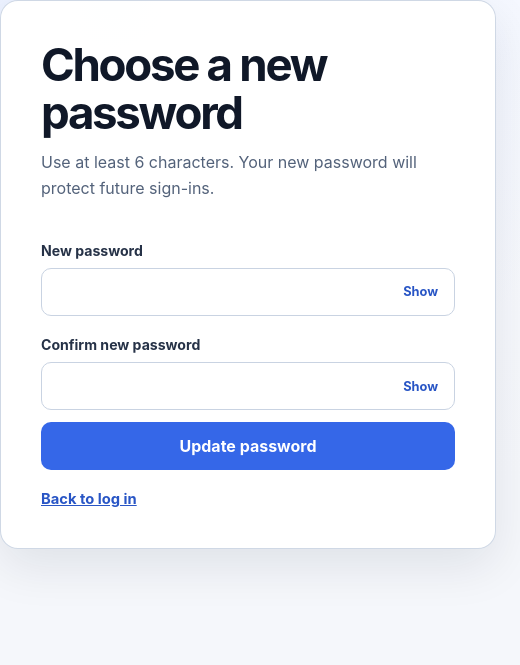
Test: PasswordResetForm › handles a rejected recovery session safely
Type "password123" into the password field labelled "New password". click: (248, 292)
box: x1=41 y1=268 x2=455 y2=316
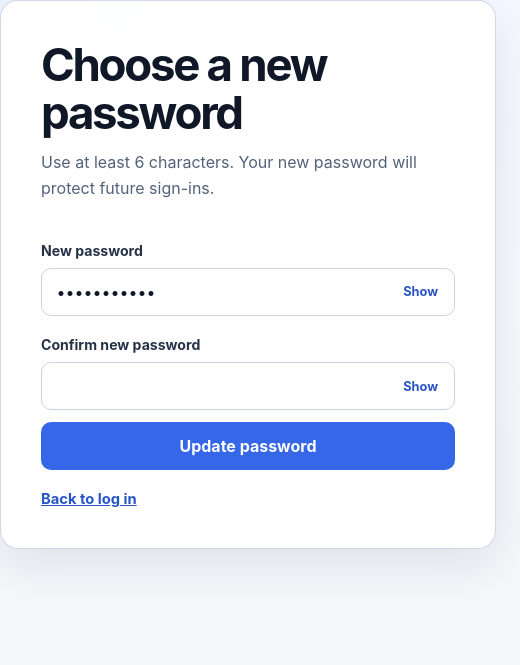
Type "password123" into the password field labelled "Confirm new password". click: (248, 386)
box: x1=41 y1=362 x2=455 y2=410
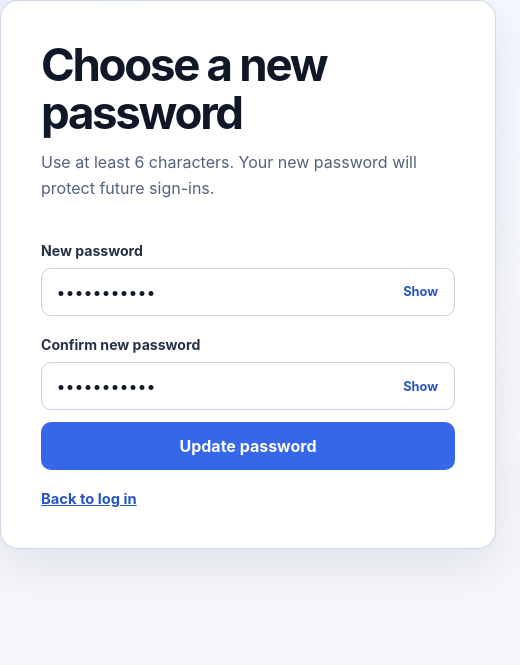
Click the button "Update password". click: (248, 446)
box: x1=41 y1=422 x2=455 y2=470
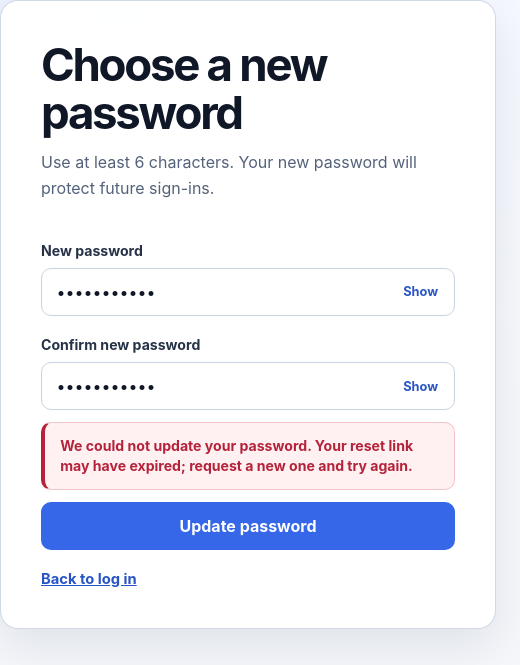
Now the message shows "reset link may have expired", box x1=60 y1=437 x2=413 y2=474
